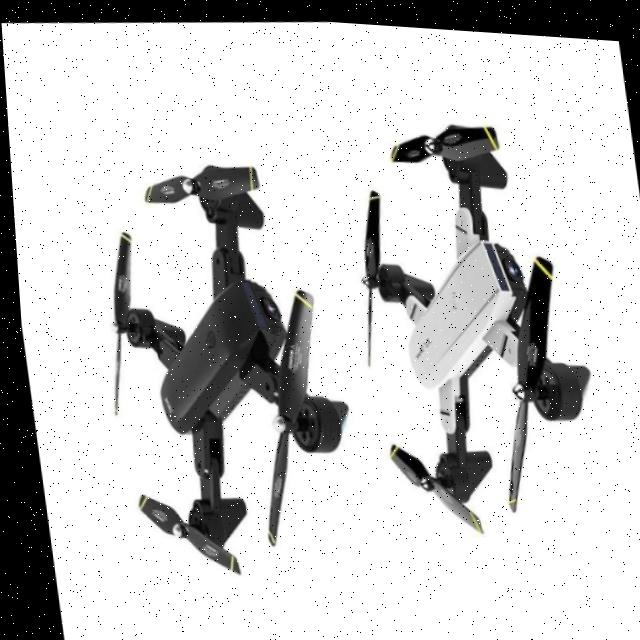drones: (50, 62, 378, 617), (334, 95, 621, 583)
